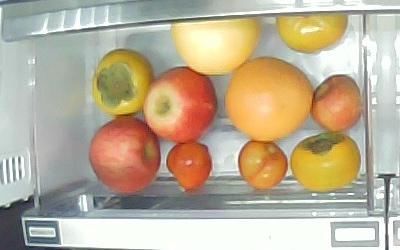apple: (87, 114, 160, 194), (142, 67, 218, 143)
grapefruit: (225, 57, 313, 142), (172, 17, 260, 76)
persimmon: (291, 132, 361, 193), (94, 49, 155, 115), (275, 13, 349, 54)
prune: (312, 75, 361, 133), (238, 140, 288, 191), (167, 142, 213, 193)
